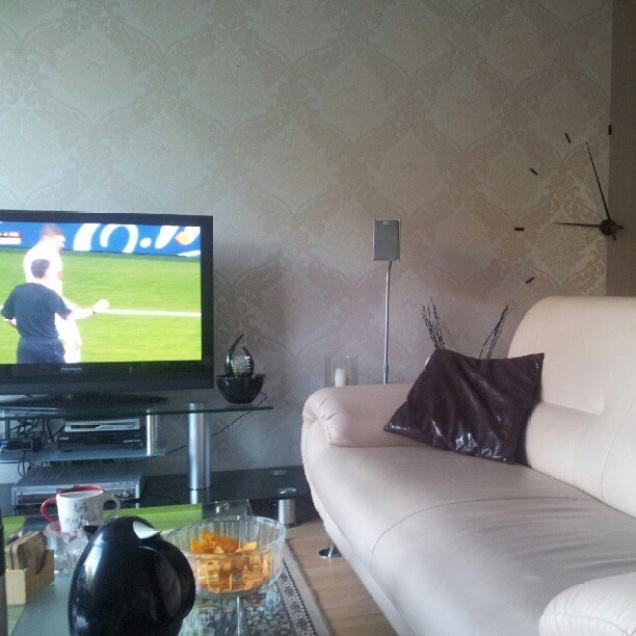AIO PC-Monitor-TV: (0, 208, 215, 394)
